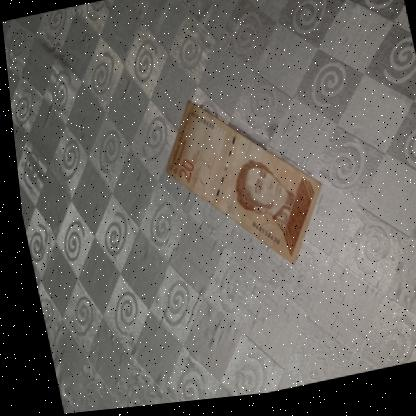twenty-front-vef: (146, 79, 331, 292)
